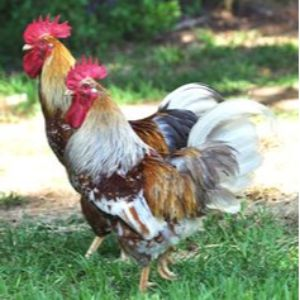hen: (55, 57, 272, 294), (16, 12, 223, 183)
